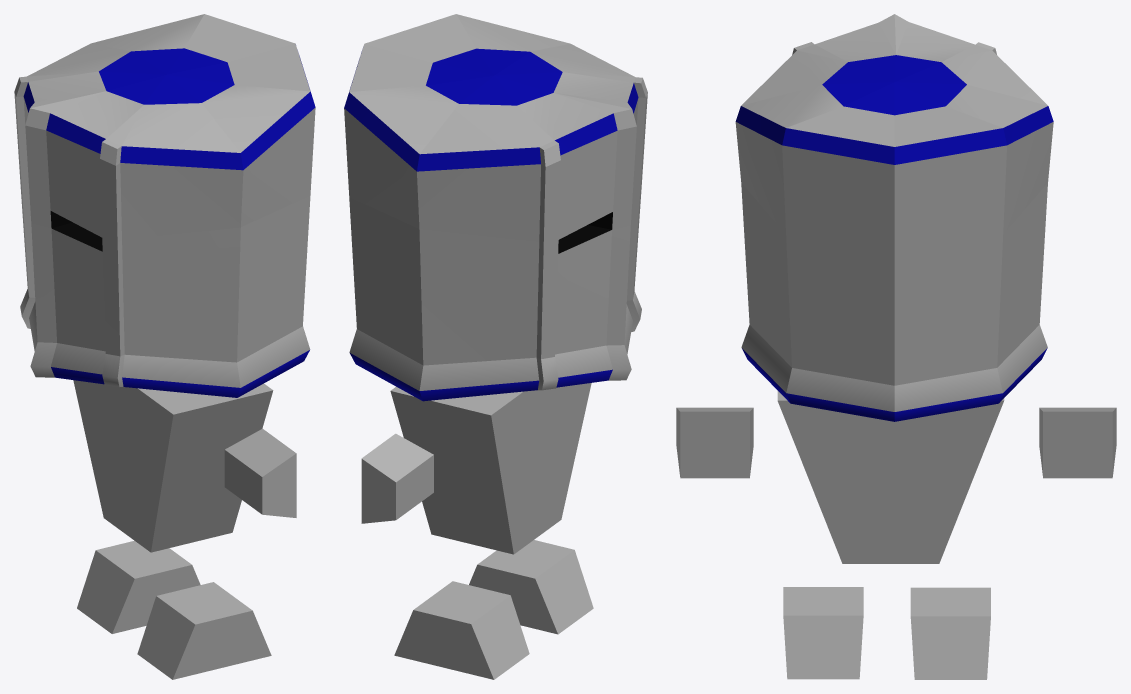
File: HeroMinionV01Combined.fbx
3 views of the same model, side by side, from view 1: azimuth 30°, elevation 25°; view 2: azimuth 150°, elevation 25°; view 3: azimuth 270°, elevation 25° (orthographic). The views are drawn at different scales.
Visible parts, largest first — view 1: HeroMinionV01Combined; view 2: HeroMinionV01Combined; view 3: HeroMinionV01Combined.
Boxes of the visible parts, x1,y1,x2,y2 form: HeroMinionV01Combined: (14, 14, 315, 679); HeroMinionV01Combined: (344, 14, 647, 679); HeroMinionV01Combined: (676, 14, 1116, 679).
Size of the model in its own units: 1.03 by 2 by 1.4.
